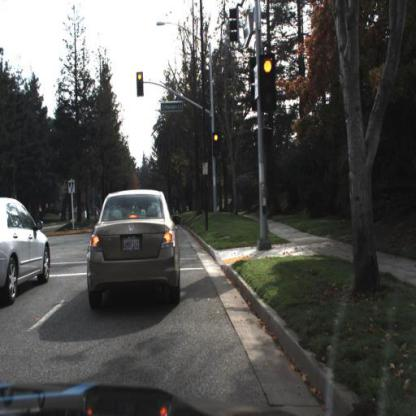car: (87, 187, 182, 313), (1, 197, 52, 303)
trafficLight-Red: (258, 51, 278, 115), (212, 133, 222, 160), (136, 71, 145, 100)
